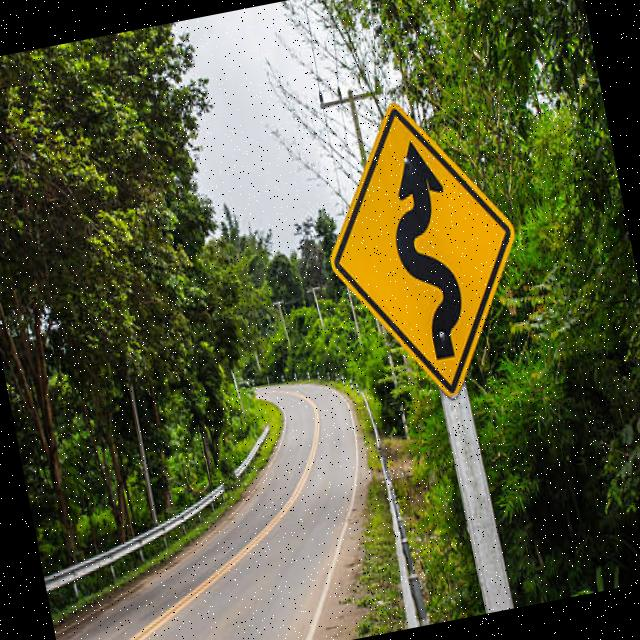left_sharp_curve: (298, 74, 545, 426)
